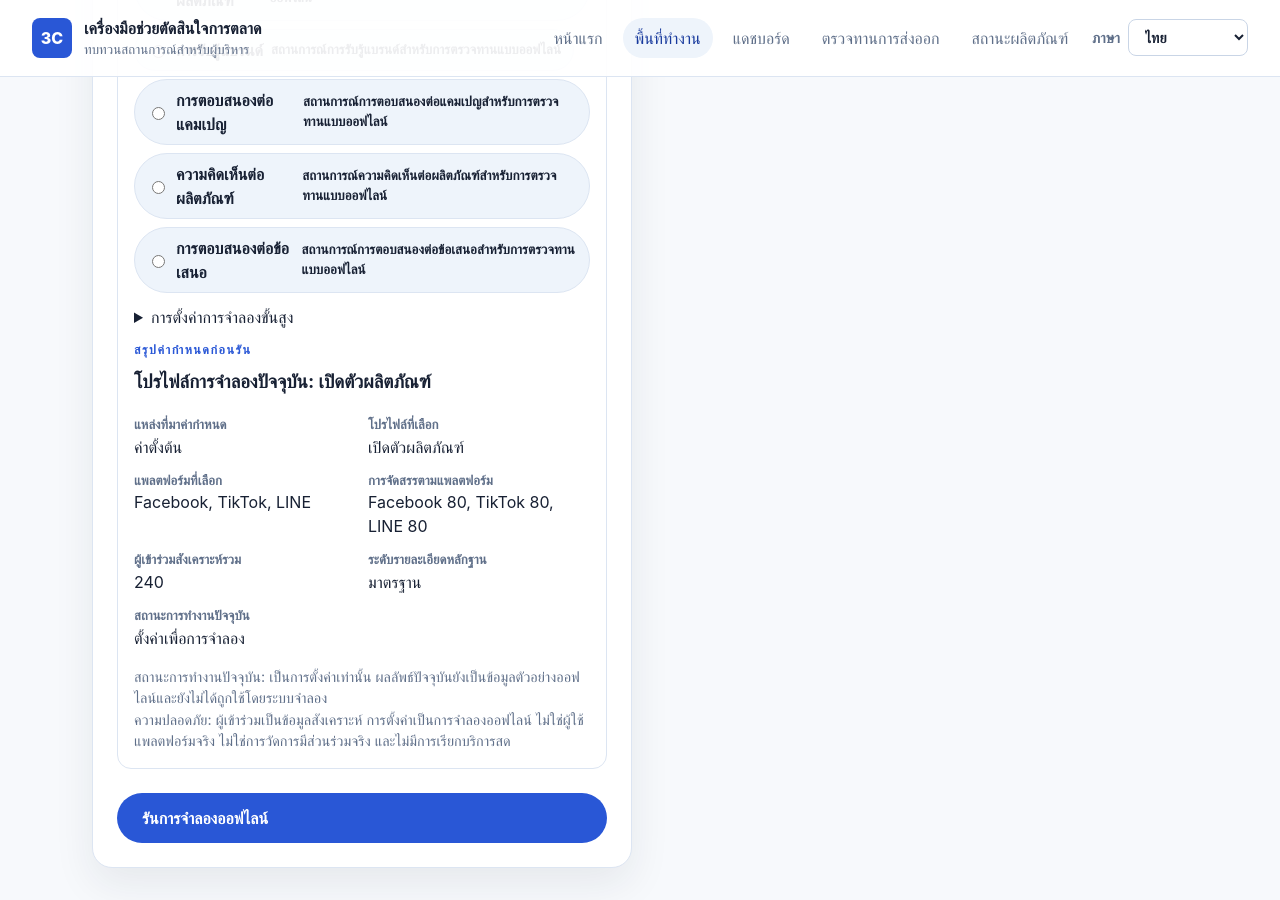
it: M18 Thai-first internationalization › fully localizes Workbench completion status accessible label in Thai mode
(page scrolled)
Click the button "รันการจำลองออฟไลน์" at (205, 818), box [117,793,607,843]
(page scrolled)
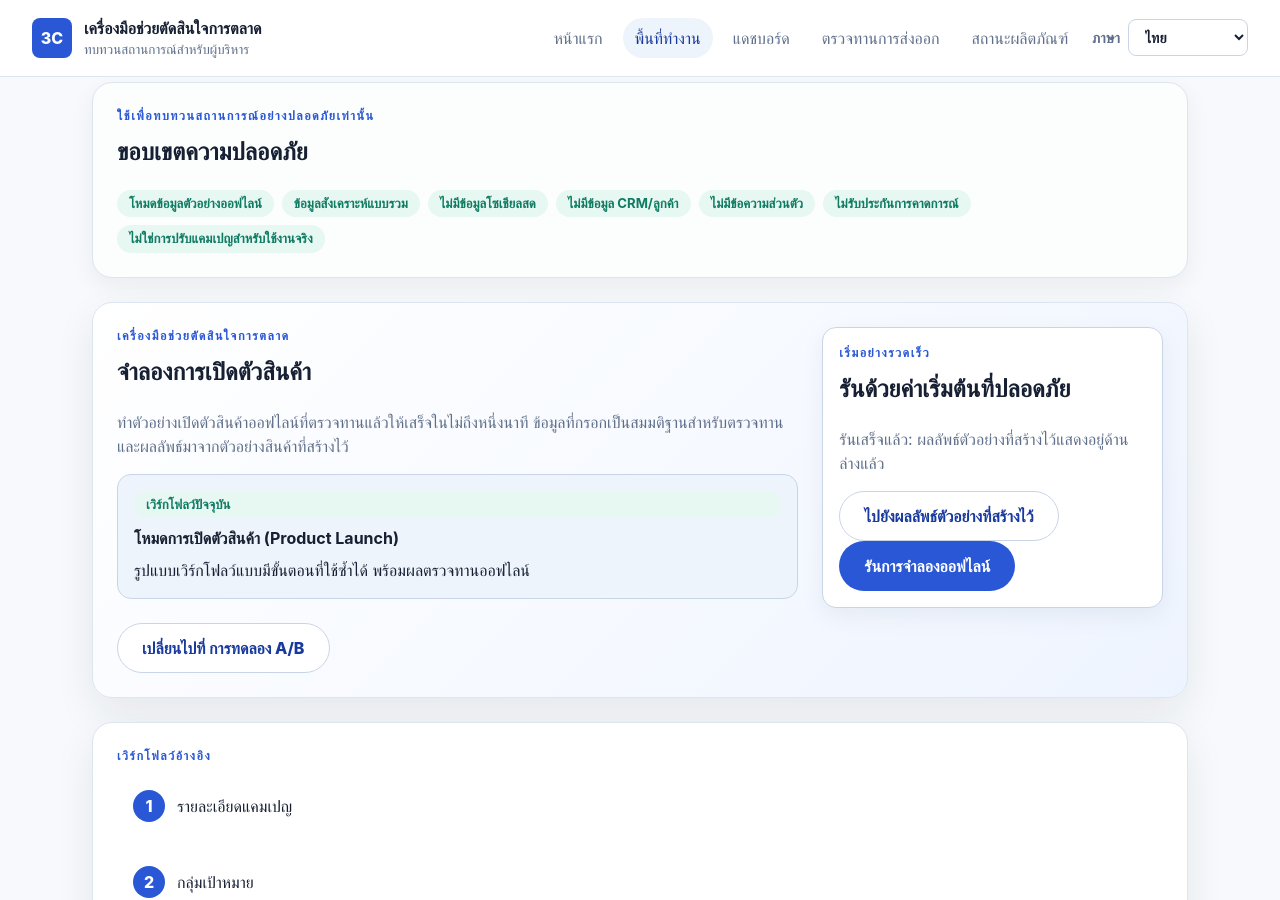
Now the message named "สถานะการรัน" reads "รันเสร็จแล้ว: ผลลัพธ์ตัวอย่างที่สร้างไว้แสดงอยู่ด้านล่างแล้ว", box [839,429,1128,473]
